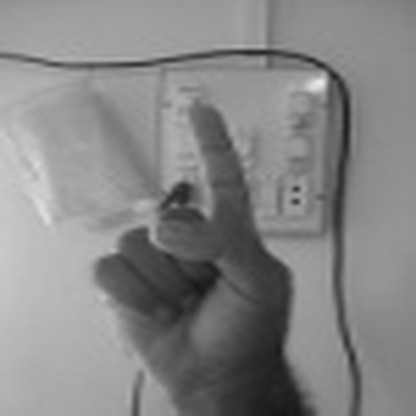d: (90, 101, 292, 381)
